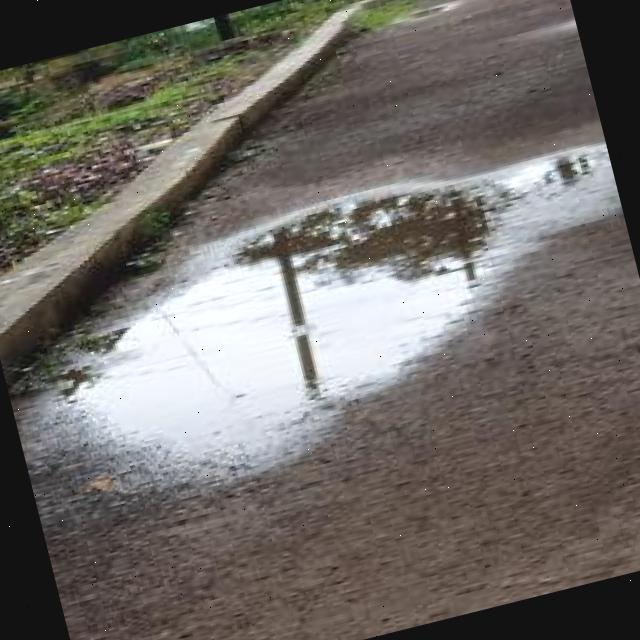stagnation: (16, 162, 528, 514)
